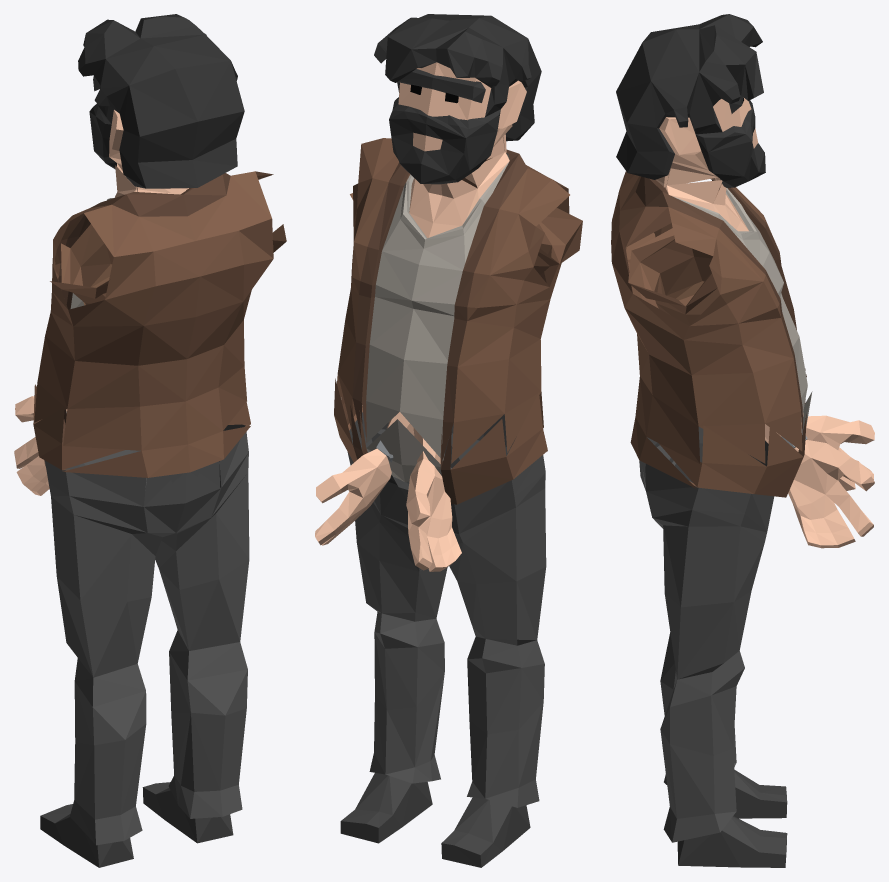
The model's file is Satan_standing.obj.
3 views of the same model, side by side, from view 1: azimuth 30°, elevation 25°; view 2: azimuth 150°, elevation 25°; view 3: azimuth 270°, elevation 25° (orthographic).
Visible parts, largest first — view 1: Satan_standing; view 2: Satan_standing; view 3: Satan_standing.
Boxes of the visible parts, bbox=[...] form: Satan_standing: bbox=[14, 14, 286, 867]; Satan_standing: bbox=[315, 14, 582, 867]; Satan_standing: bbox=[611, 14, 874, 867].
Bounding box in the file's own units: 0.5483 × 1.83 × 0.5436.
1 material, 1 textured.
